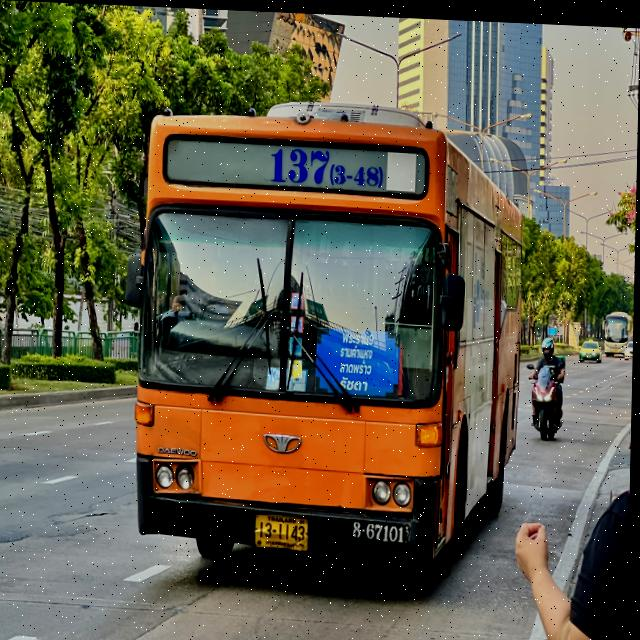BMTA-bus: (131, 103, 524, 567)
Bus Line Number: (263, 139, 387, 189)
Bus Side Number: (349, 518, 411, 543)
Destination Sign: (318, 321, 403, 398)
